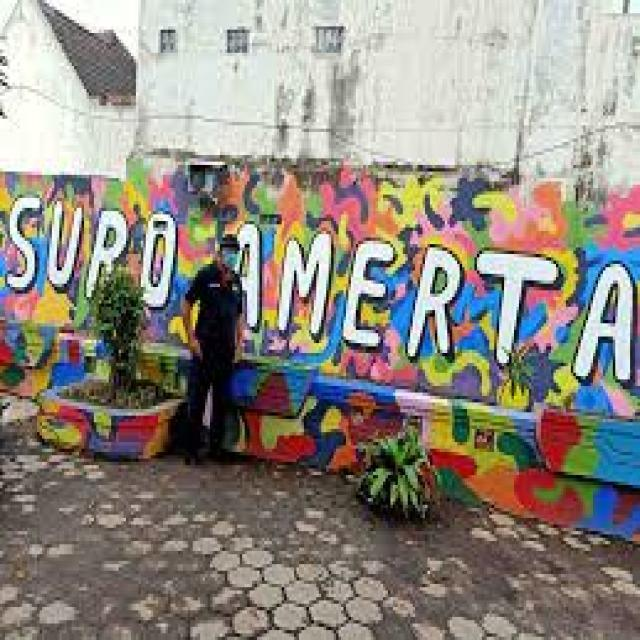-: (5, 172, 640, 538), (6, 194, 634, 392)
